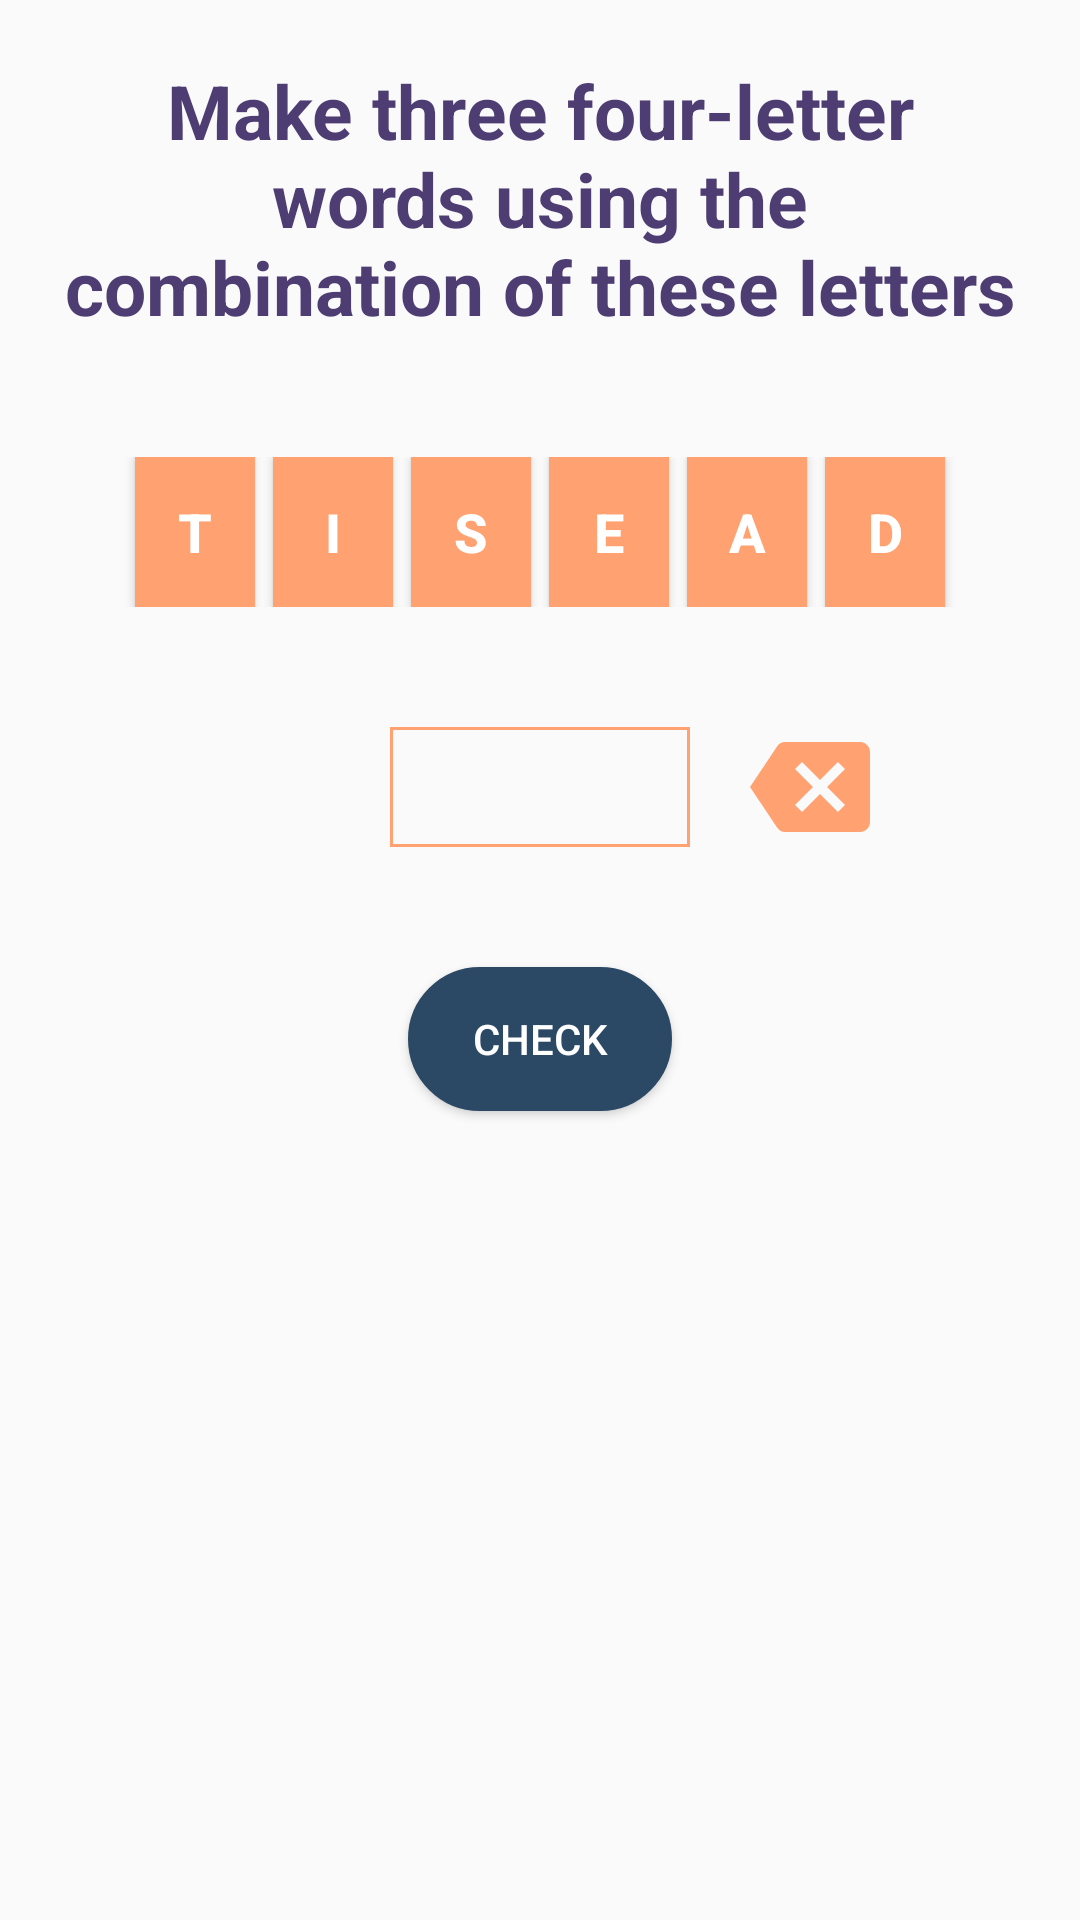

Point at icon controls on the screen. Image size 1080w x 1920h, points as (x=x, y=y).
backspace: (x=810, y=787)
